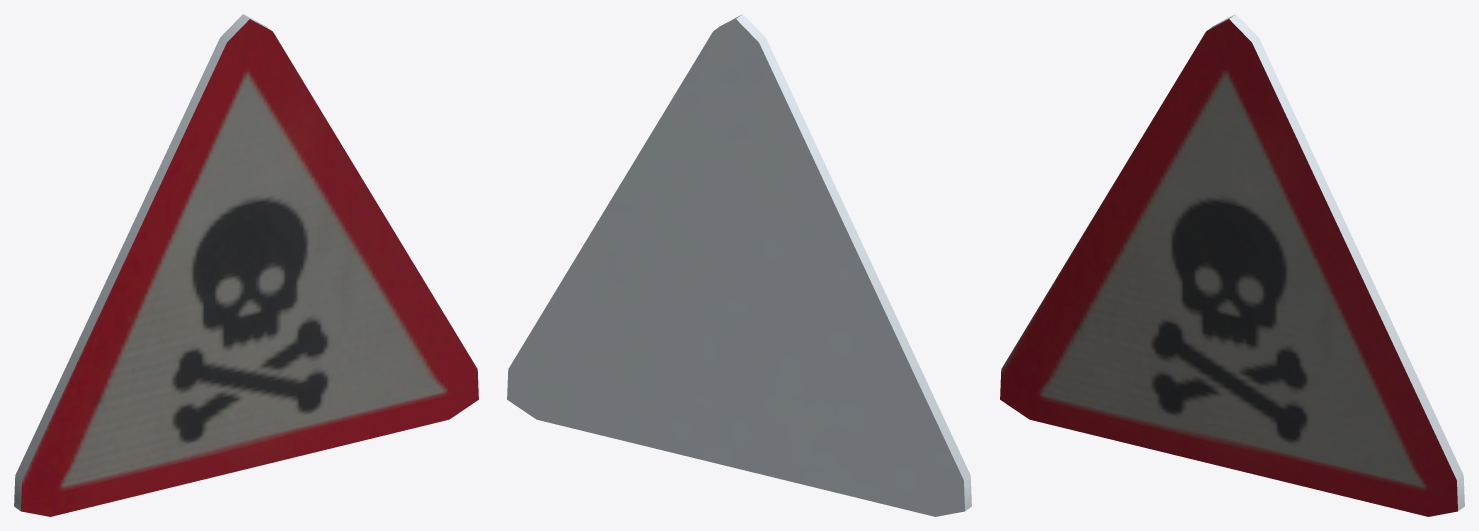
File: SIgnBoard_12.fbx
3 renders of one model, left to right at view 1: azimuth 30°, elevation 25°; view 2: azimuth 150°, elevation 25°; view 3: azimuth 330°, elevation 25°, orthographic.
Parts seen in each view (by area): view 1: SIgnBoard_12; view 2: SIgnBoard_12; view 3: SIgnBoard_12.
Part boxes in pixels (x1,y1,x2,y2): SIgnBoard_12: (14, 14, 478, 516); SIgnBoard_12: (507, 14, 971, 516); SIgnBoard_12: (1000, 14, 1464, 516).
Size of the model in its own units: 0.7368 by 0.6906 by 0.0191.
